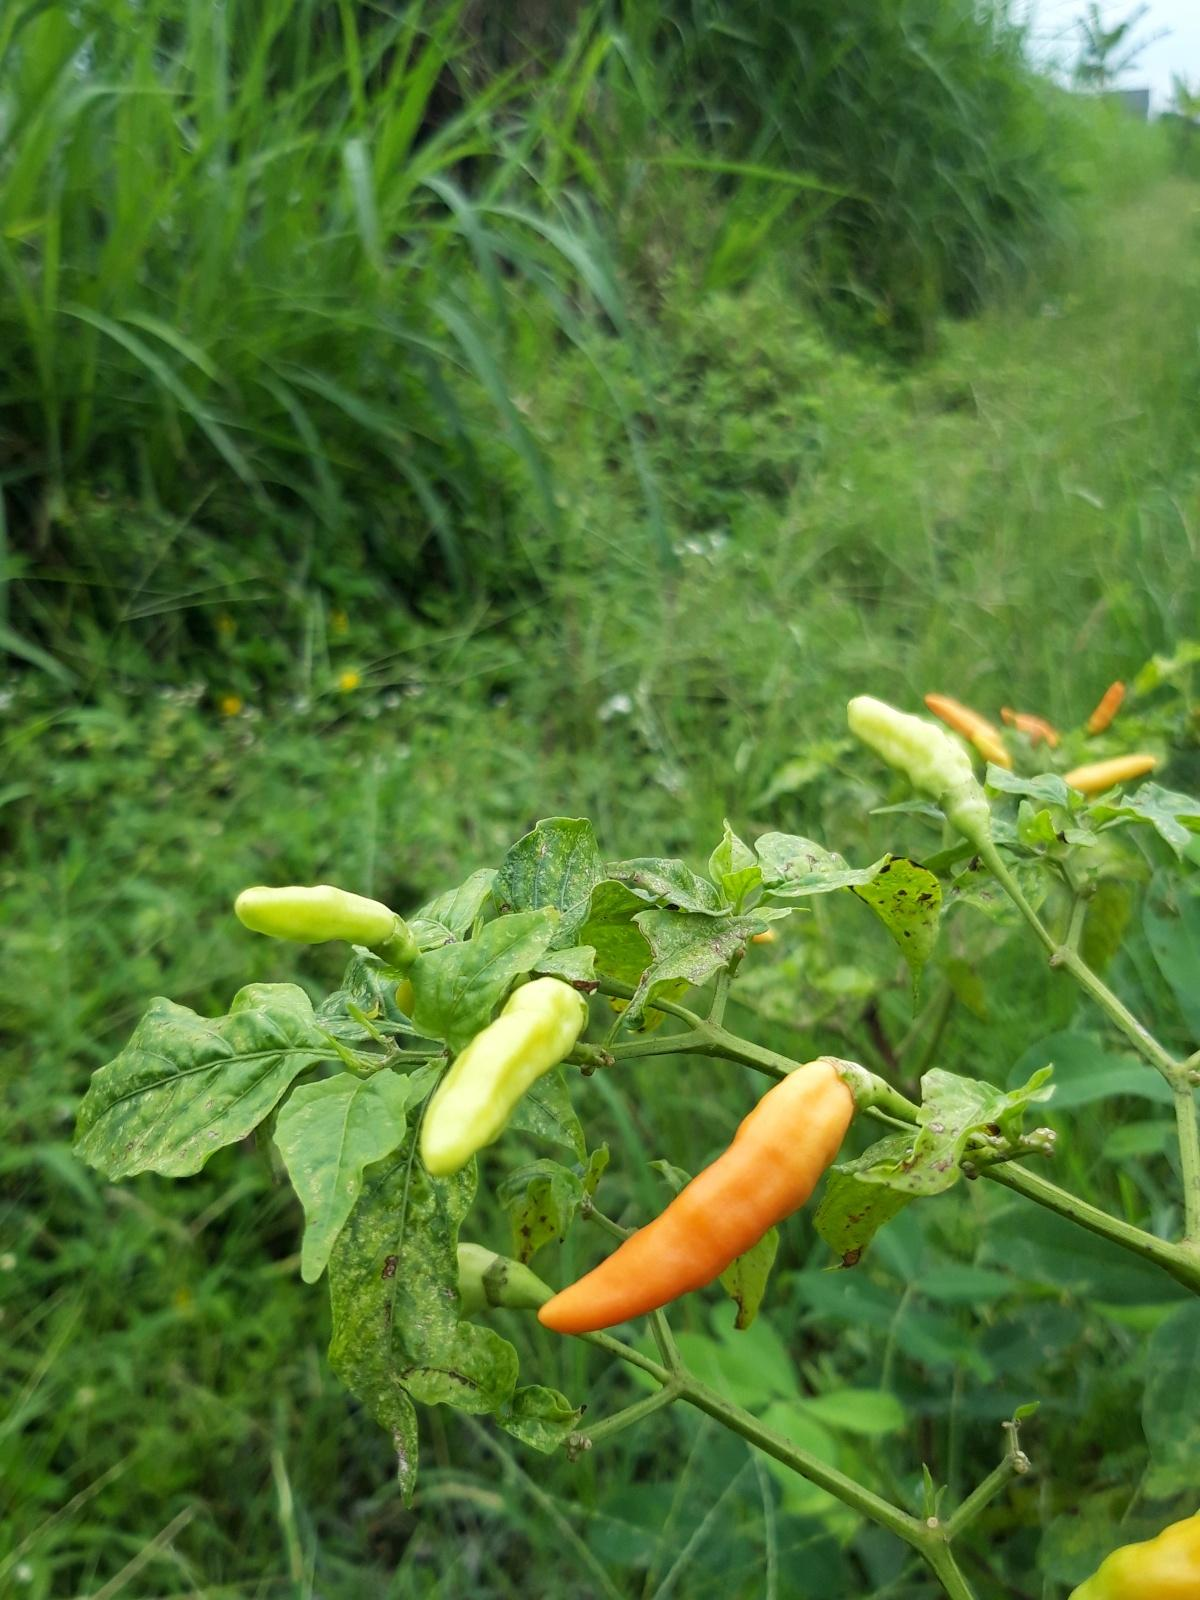cabai_normal: (537, 1061, 856, 1335), (424, 973, 587, 1175), (846, 694, 971, 800), (233, 887, 407, 946), (924, 694, 1011, 774), (1061, 756, 1158, 794), (1000, 707, 1058, 748), (1090, 682, 1124, 732)
